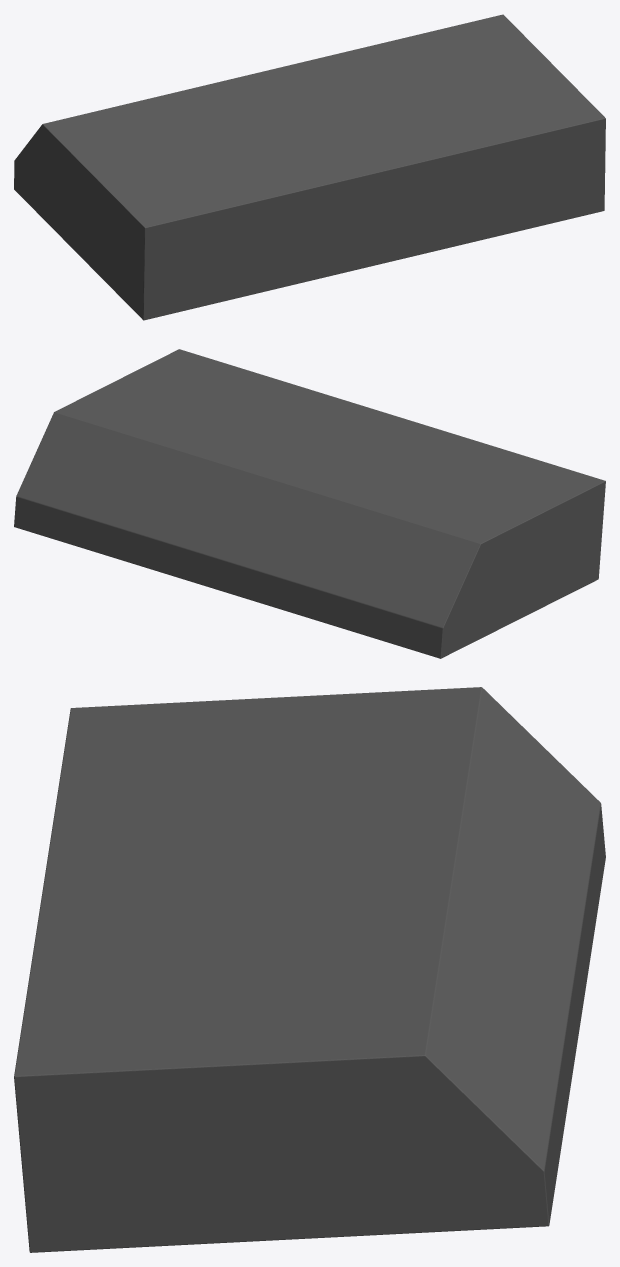
3 views of the same model, one above another, from view 1: azimuth 30°, elevation 25°; view 2: azimuth 150°, elevation 25°; view 3: azimuth 270°, elevation 25° (orthographic). The views are drawn at different scales.
Visible parts, largest first — view 1: body; view 2: body; view 3: body.
Part boxes in pixels (x1,y1,x2,y2): body: (14, 14, 605, 320); body: (14, 349, 605, 658); body: (14, 687, 605, 1252).
Bounding box in the file's own units: 0.8335 × 0.2178 × 0.5126.
Materials: 4 (2 with a texture image).
